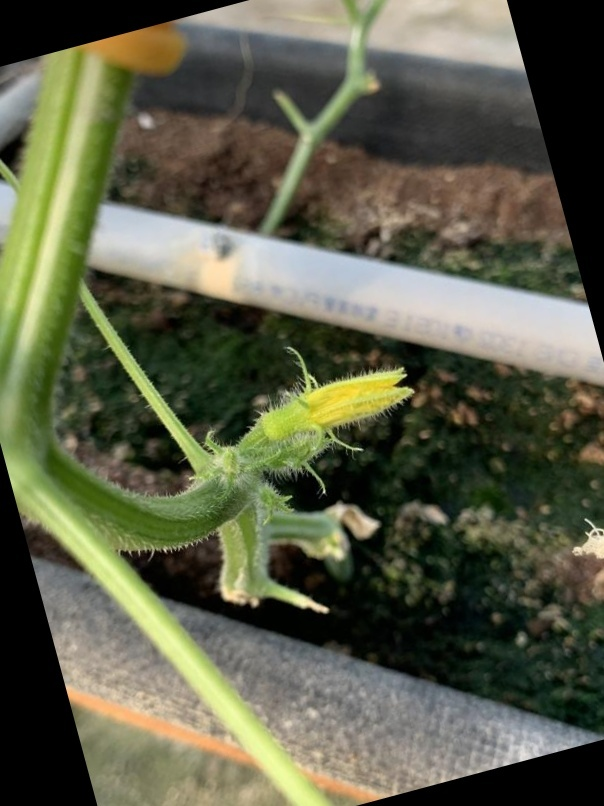bud: (238, 366, 411, 452)
